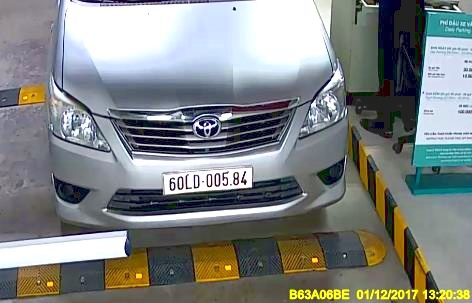plate: (159, 163, 256, 193)
